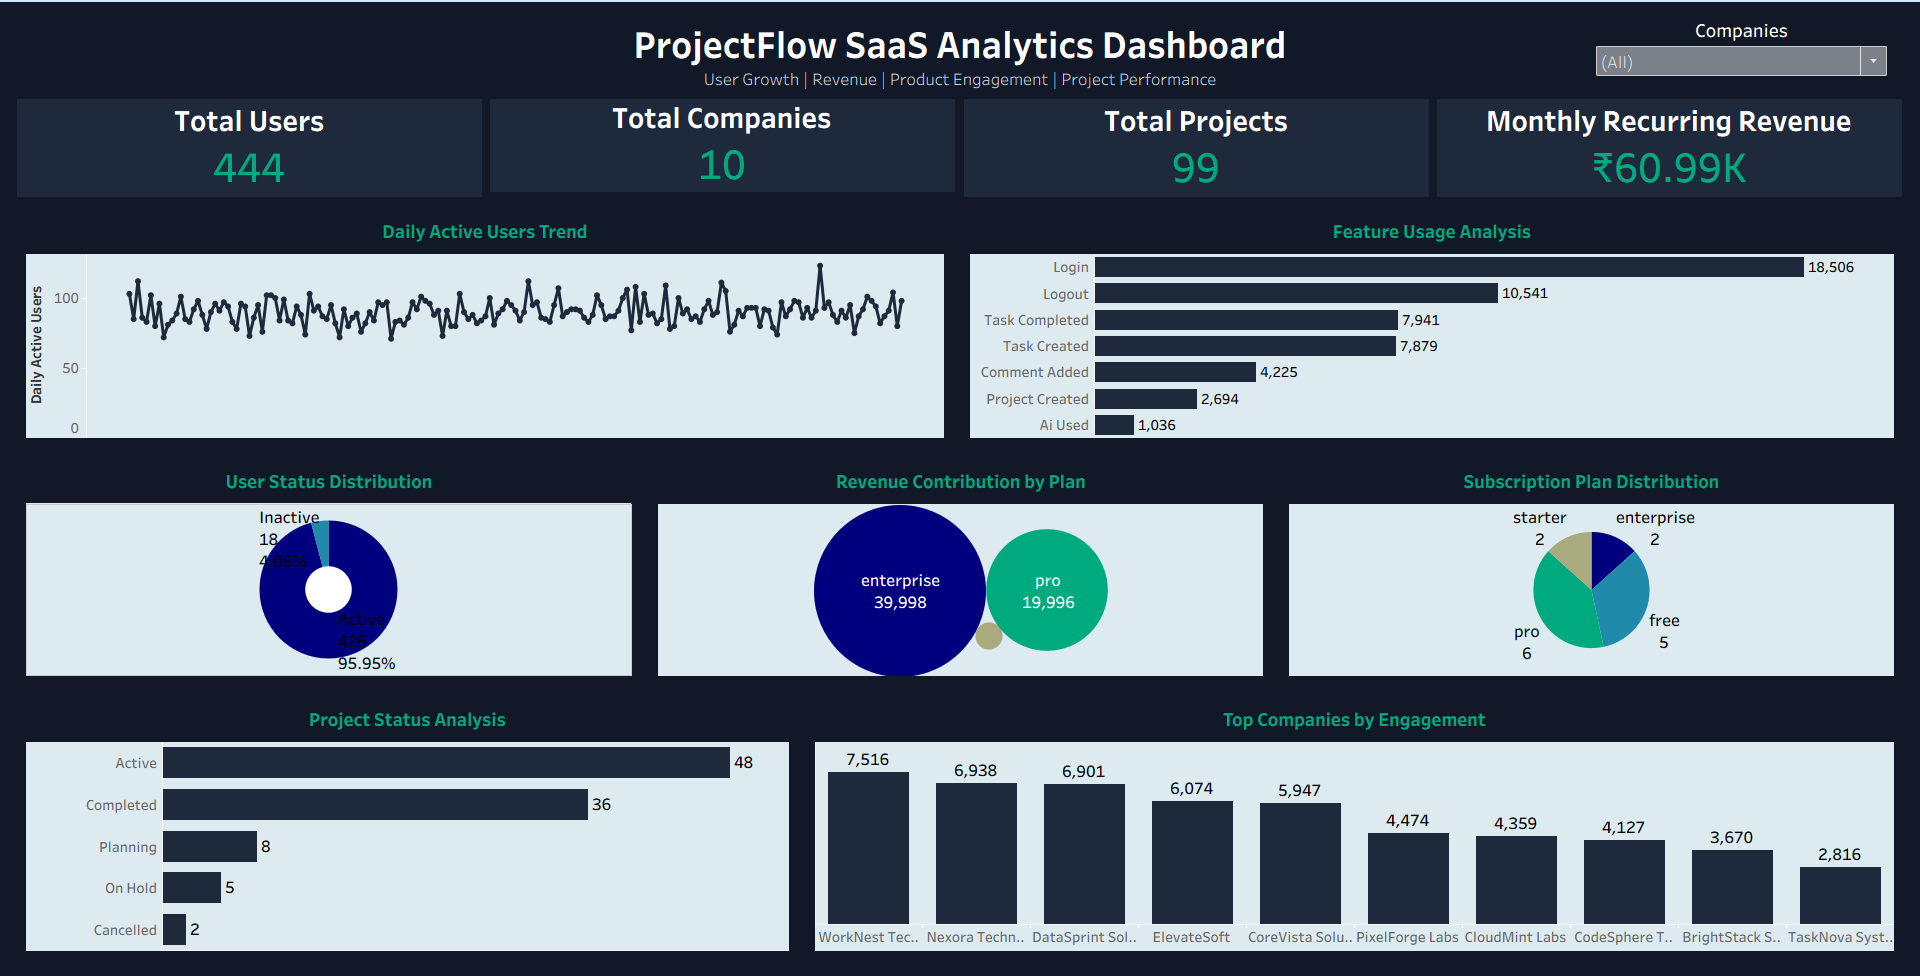

What the dashboard file says about the page in this screenshot:
{"tool":"tableau","page":{"name":"ProjectFlow Dashboard","canvas":[1000,1000],"units":"permille","ordinal":0},"visuals":[{"type":"filter","title":"KPI - Total Companies","param":"[federated.17fok9u1lnd2ku17969dl0q6iv8i].[none:company_name:nk]","box":[829.8,15.8,154.6,81.8]},{"type":"title","box":[8.1,17.2,983.8,94.4]},{"type":"worksheet","title":"KPI - Total Users","mark":"Automatic","box":[8.1,111.6,245.9,94.4]},{"type":"worksheet","title":"KPI - Total Companies","mark":"Automatic","box":[254.1,111.6,245.9,94.4]},{"type":"worksheet","title":"KPI - Total Projects","mark":"Automatic","box":[500,111.6,245.9,94.4]},{"type":"worksheet","title":"KPI - MRR","mark":"Automatic","box":[745.9,111.6,245.9,94.4]},{"type":"worksheet","title":"Daily Active Users Trend","mark":"Line","rows":["user_id (activity_logs.csv)"],"cols":["activity_time"],"box":[8.1,206,490.5,254.7]},{"type":"worksheet","title":"Feature Usage Analysis","mark":"Automatic","rows":["activity_type"],"cols":["activity_id"],"box":[498.6,206,493.3,254.7]},{"type":"worksheet","title":"User Status Distribution","mark":"Pie","rows":["Calculation_1000080612816220162","Calculation_1000080612816228356"],"box":[8.1,460.7,328.1,242.3]},{"type":"worksheet","title":"Revenue by Plan","mark":"Circle","box":[336.2,460.7,328.1,242.3]},{"type":"worksheet","title":"Subscription Plan Distribution","mark":"Pie","box":[664.4,460.7,327.5,242.3]},{"type":"worksheet","title":"Project Status Analysis","mark":"Automatic","rows":["project_status"],"cols":["project_id"],"box":[8.1,703,491.9,279.8]},{"type":"worksheet","title":"Top Companies by Activity","mark":"Automatic","rows":["activity_id"],"cols":["company_name"],"box":[500,703,491.8,279.8]}]}

Visuals, with their boxes on the dashboard's canvas, which has no fixed pixel size, in thousandths of its width and height (x1, y1, x2, y2). These are canvas units, not pixel positions in the 1920x976 screenshot, which may show the page scaled, cropped or inside an application window:
"KPI - Total Companies" filter: (830, 16, 984, 98)
title: (8, 17, 992, 112)
"KPI - Total Users" worksheet: (8, 112, 254, 206)
"KPI - Total Companies" worksheet: (254, 112, 500, 206)
"KPI - Total Projects" worksheet: (500, 112, 746, 206)
"KPI - MRR" worksheet: (746, 112, 992, 206)
"Daily Active Users Trend" worksheet (Line marks): (8, 206, 499, 461)
"Feature Usage Analysis" worksheet: (499, 206, 992, 461)
"User Status Distribution" worksheet (Pie marks): (8, 461, 336, 703)
"Revenue by Plan" worksheet (Circle marks): (336, 461, 664, 703)
"Subscription Plan Distribution" worksheet (Pie marks): (664, 461, 992, 703)
"Project Status Analysis" worksheet: (8, 703, 500, 983)
"Top Companies by Activity" worksheet: (500, 703, 992, 983)
